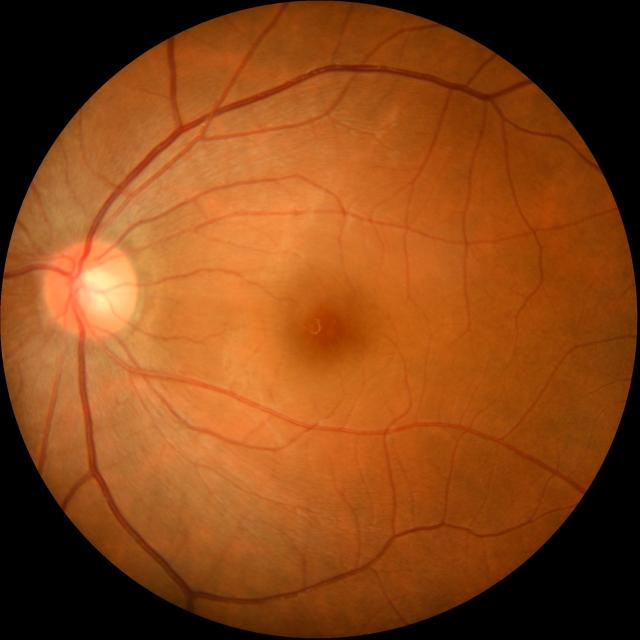OC: (69, 265, 120, 319)
OD: (43, 238, 134, 337)
